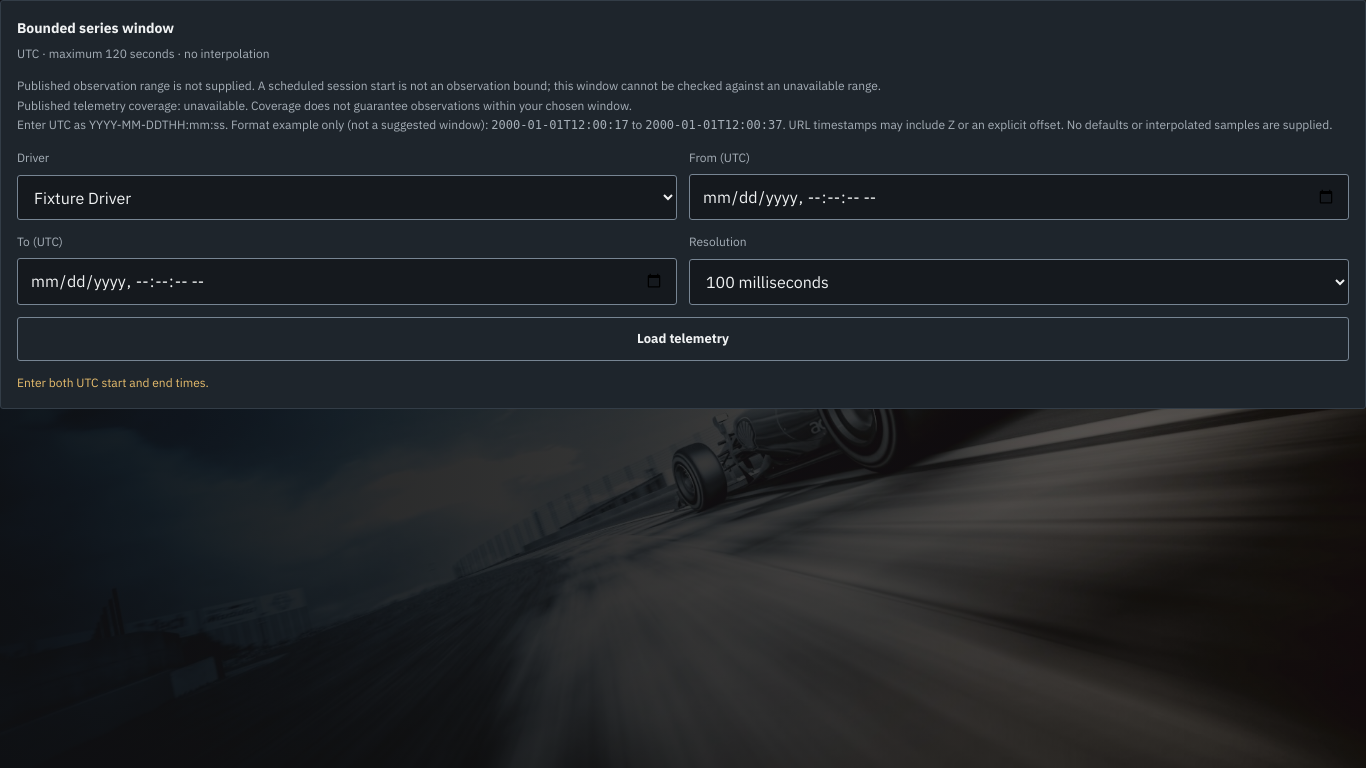
UX-10 form rejects 2026-10-11T12:02:17..2026-10-11T12:00:17 before requesting
Type "2026-10-11T12:02:17" into the field labelled "From (UTC)" at (1019, 197), box 689,174 -> 1349,220
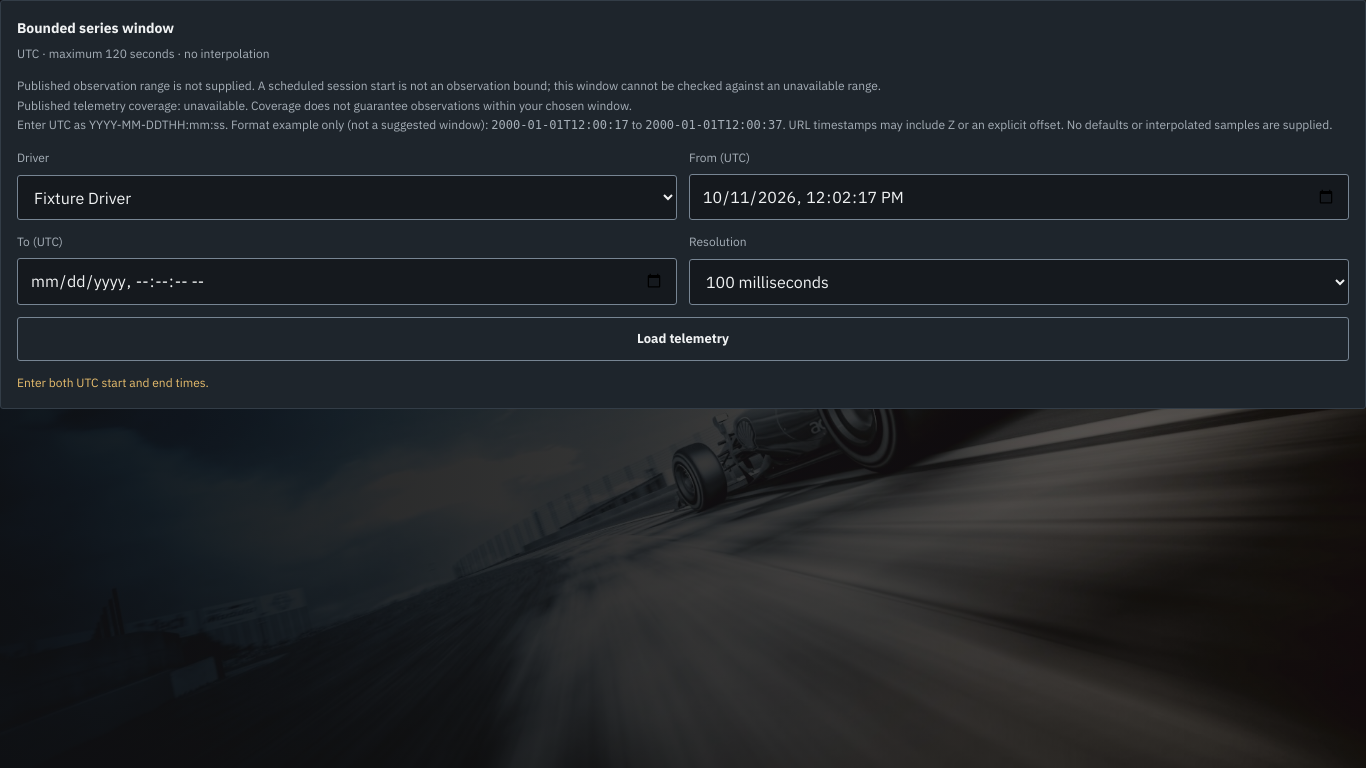
Type "2026-10-11T12:00:17" into the field labelled "To (UTC)" at (347, 282), box 17,258 -> 677,305
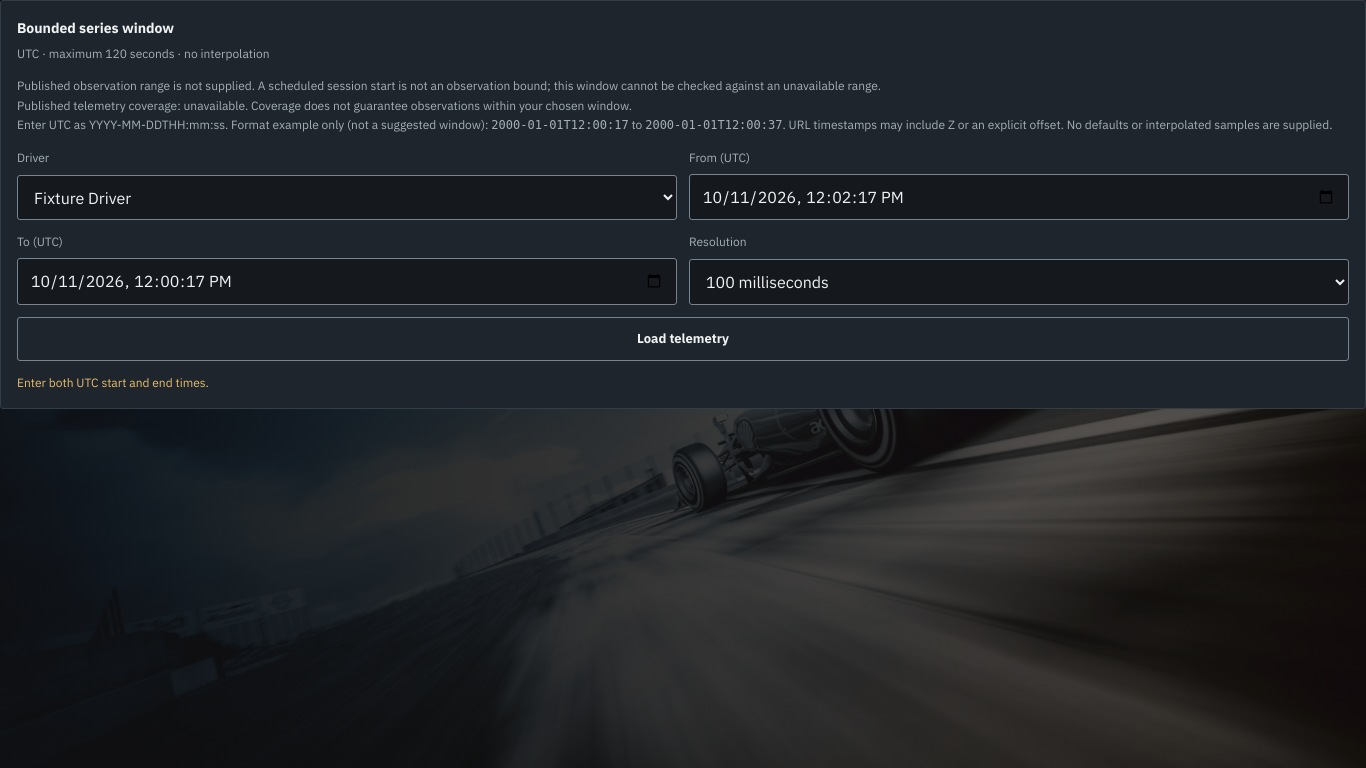
Submit the form named "Load telemetry", box 0,0 -> 1365,410
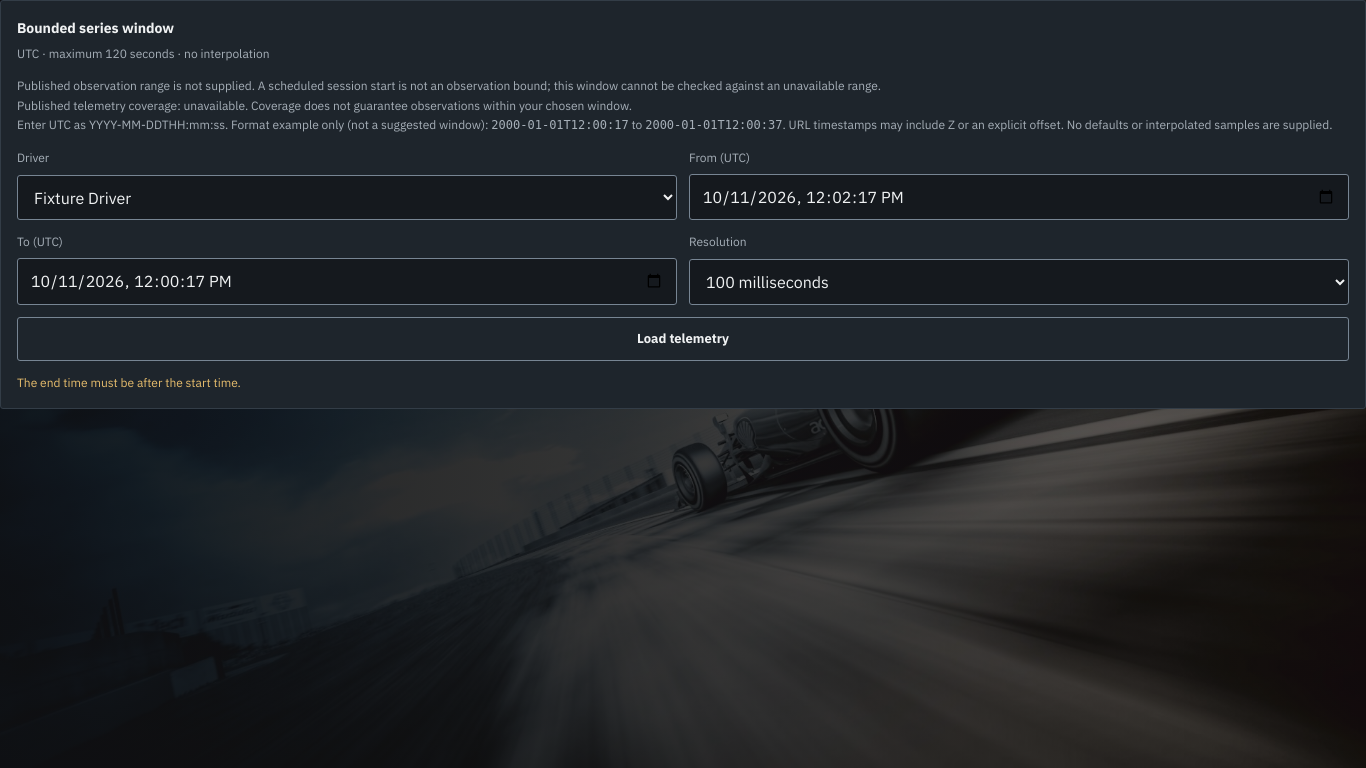
Expected: the dropdown labelled "Resolution" shows "100 milliseconds", 689,260 -> 1349,305
Expected: the message shows "after", 17,375 -> 241,390
